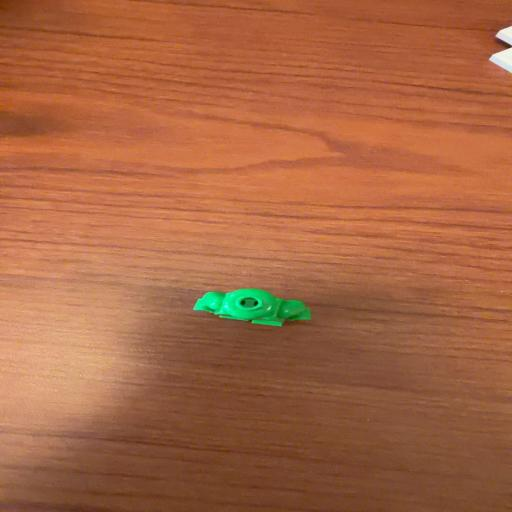UnoQ-minifig-detector: (193, 288, 314, 326)
